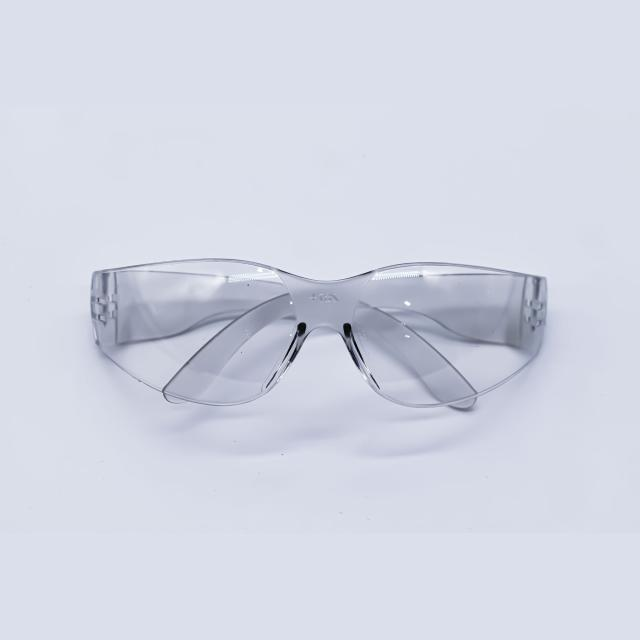Protective Glasses: (33, 181, 614, 493)
